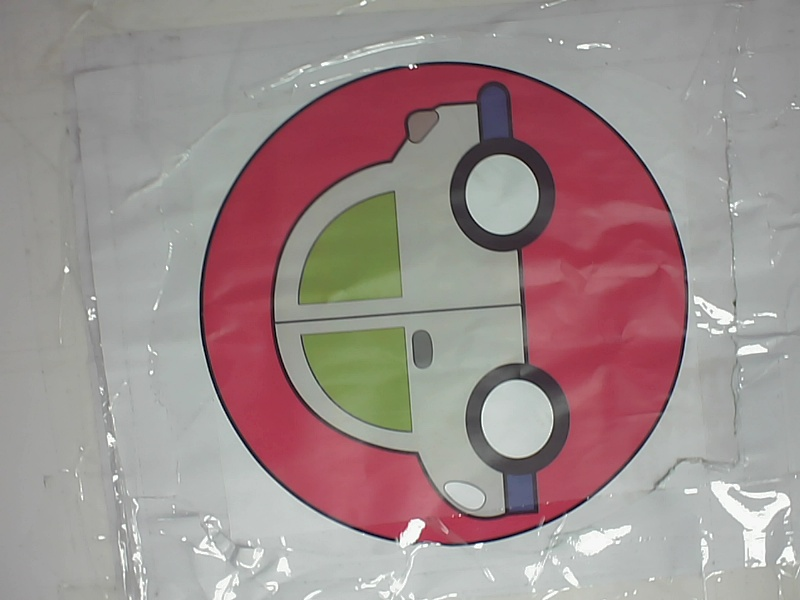areaC: (176, 56, 694, 566)
